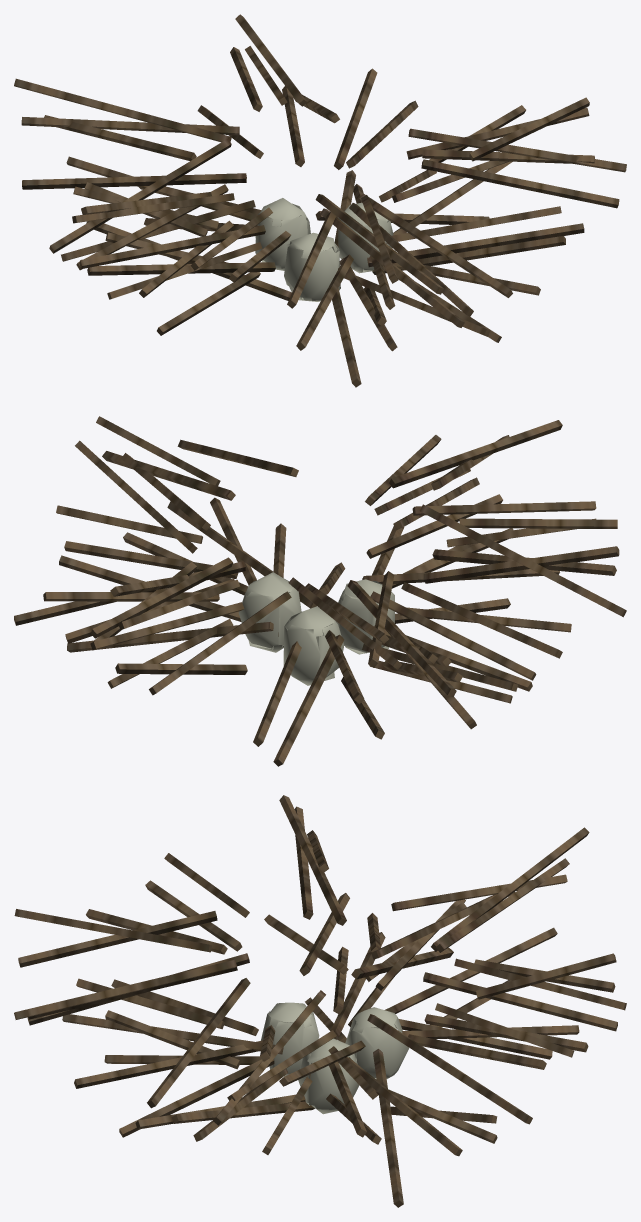
The model's file is NT24_BirdNest.glb.
The picture shows the model from 3 angles, top to bottom: view 1: azimuth 30°, elevation 25°; view 2: azimuth 150°, elevation 25°; view 3: azimuth 270°, elevation 25°; orthographic projection. The views are drawn at different scales.
Visible parts, largest first — view 1: NT24_BirdNest; view 2: NT24_BirdNest; view 3: NT24_BirdNest.
Part boxes in pixels (<box>): NT24_BirdNest: <box>14,14,626,387</box>; NT24_BirdNest: <box>14,416,626,766</box>; NT24_BirdNest: <box>14,795,626,1207</box>.
Bounding box in the file's own units: 0.3 × 0.0995 × 0.285.
2 materials, 2 textured.
